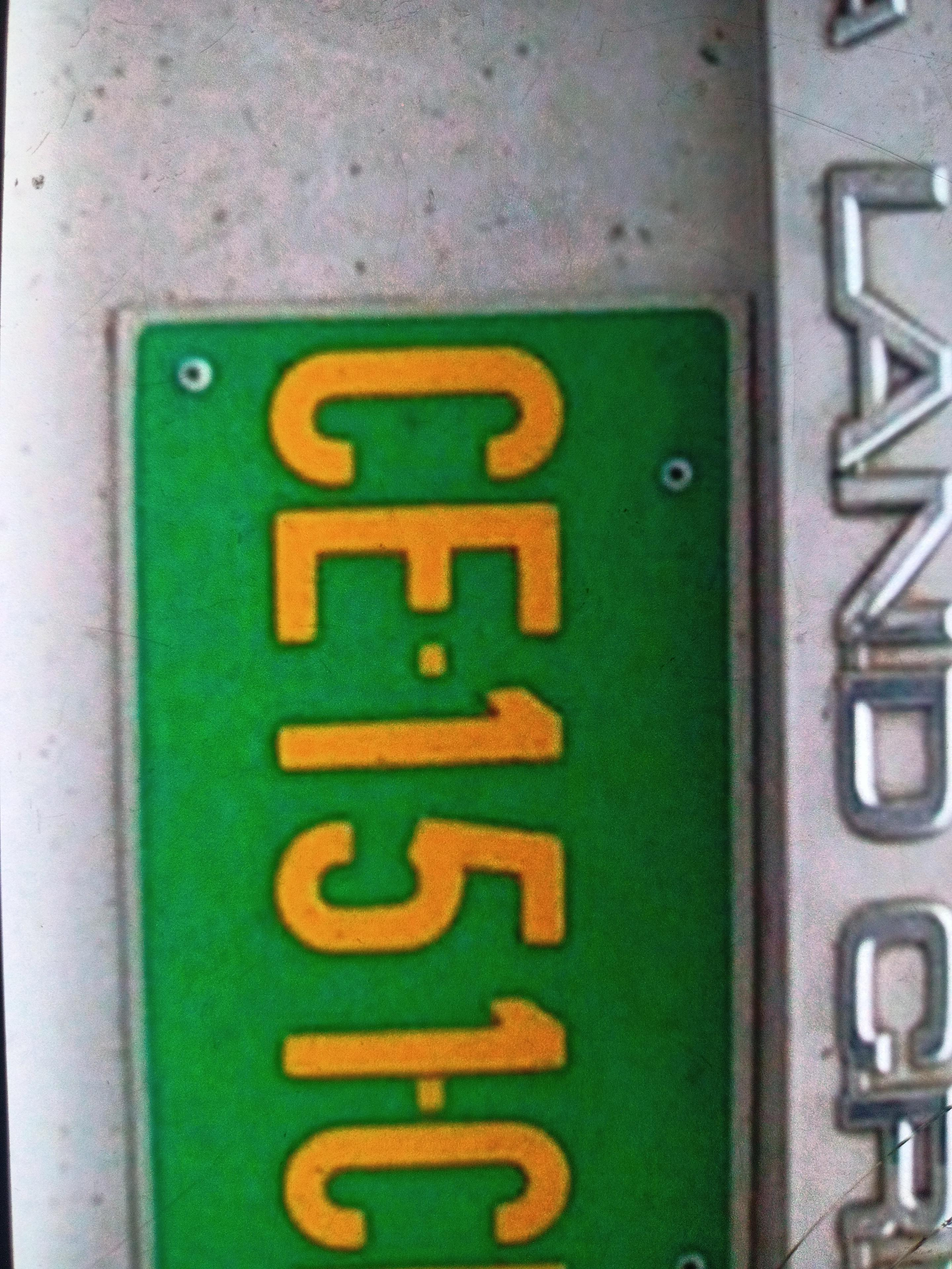green license plate: (102, 294, 762, 1269)
